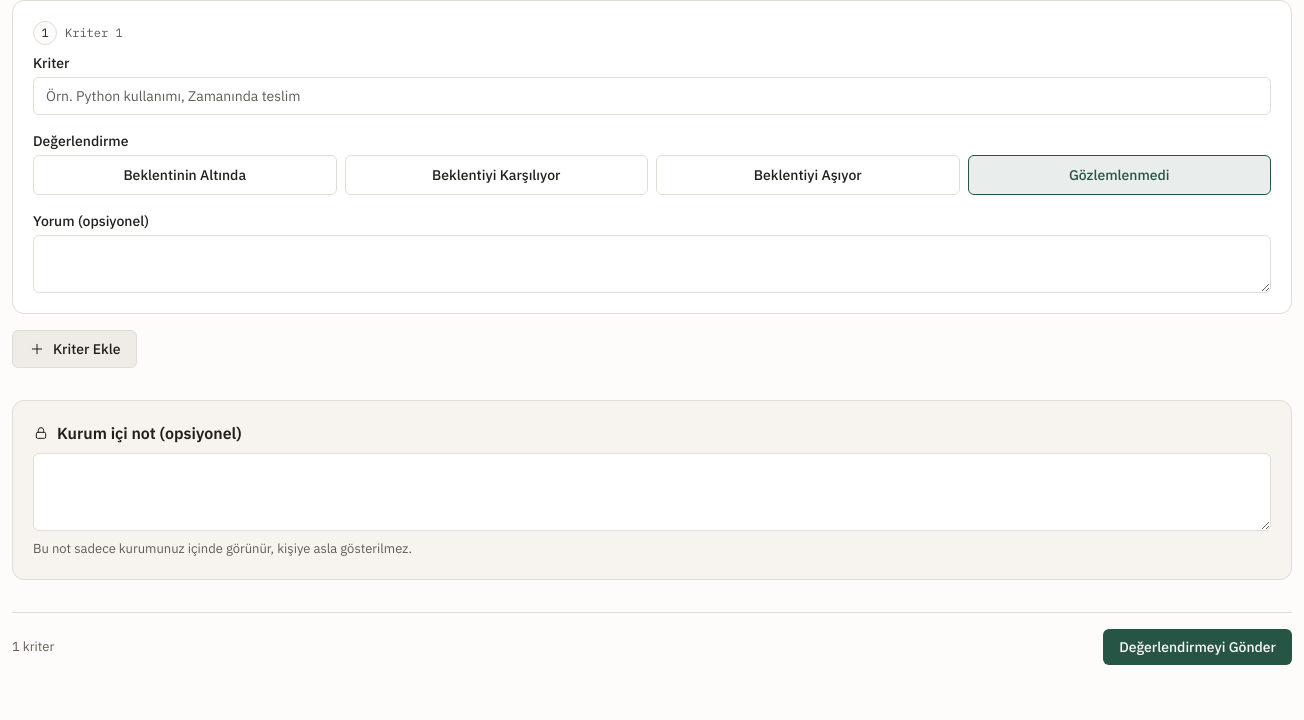
Test: EvaluationForm › 'Kriter Ekle' ile satır eklenir, her satırda 'Kaldır' görünür ve satırı kaldırır
Click the button "Kriter Ekle".
click(75, 349)  # box [12,330,137,368]
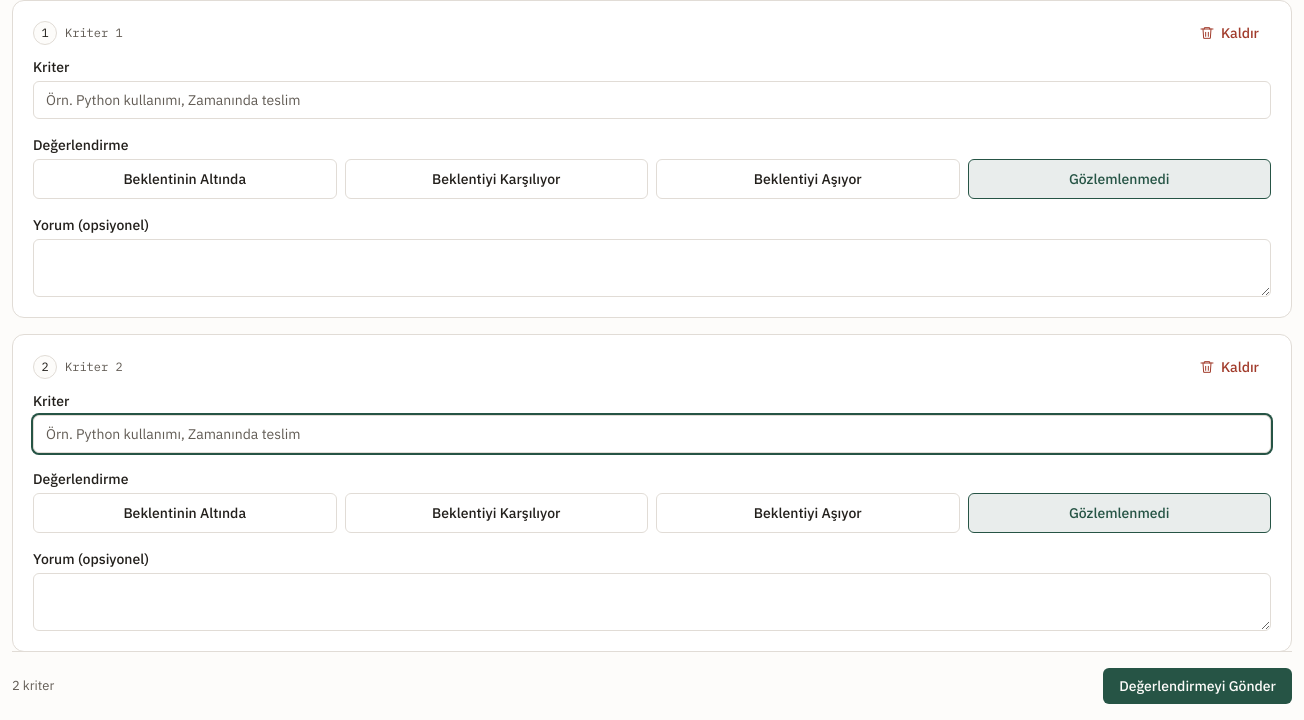
Check: the number of fields labelled "Kriter" is 2, box [33,81,1271,119]; [33,415,1271,453]
Check: the number of buttons "Kaldır" is 2
Click the button "Kaldır" in the row of "Kriter 1".
click(1229, 33)  # box [1187,17,1271,49]
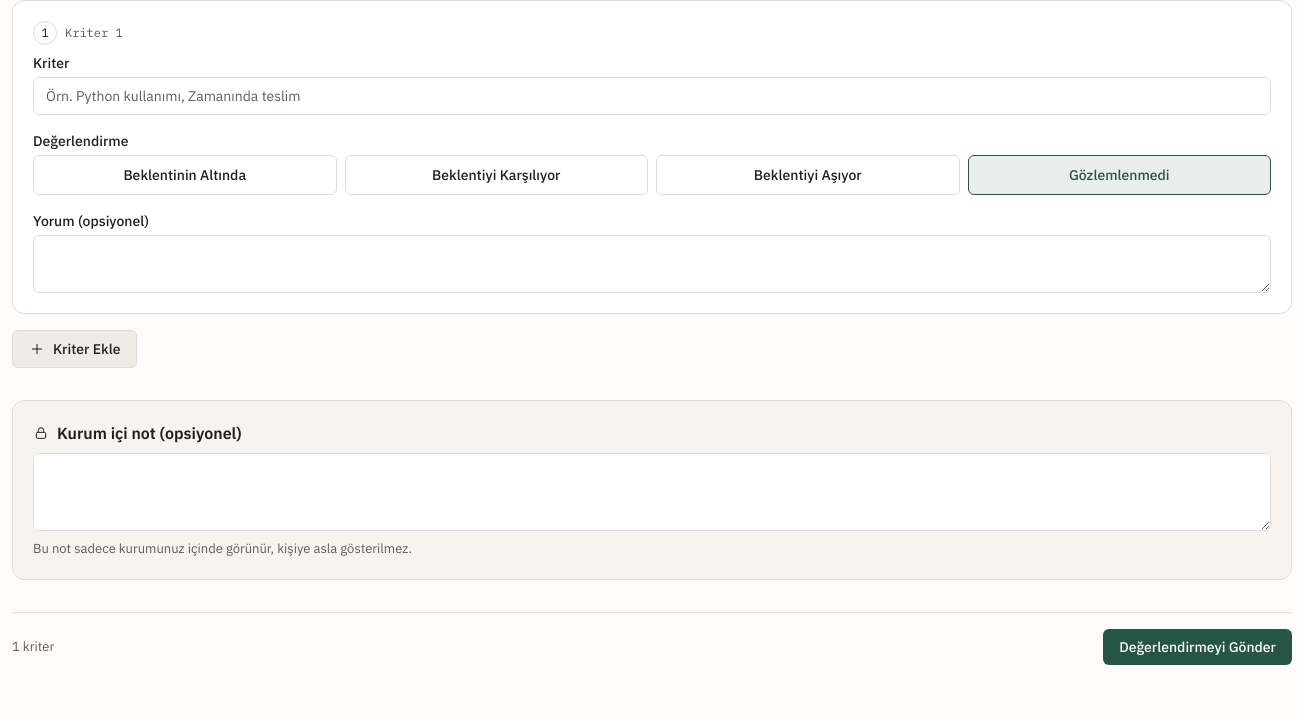
Check: the number of fields labelled "Kriter" is 1, box [33,77,1271,115]
Check: the button "Kaldır" is gone
